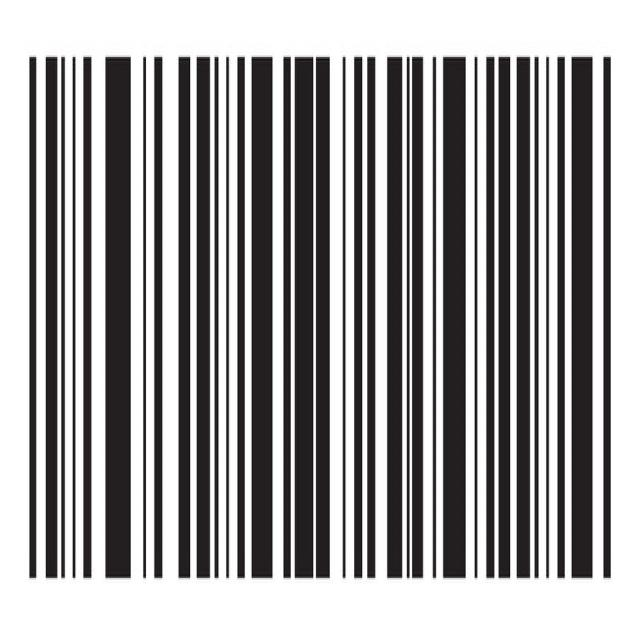Barkod: (17, 27, 620, 600)
